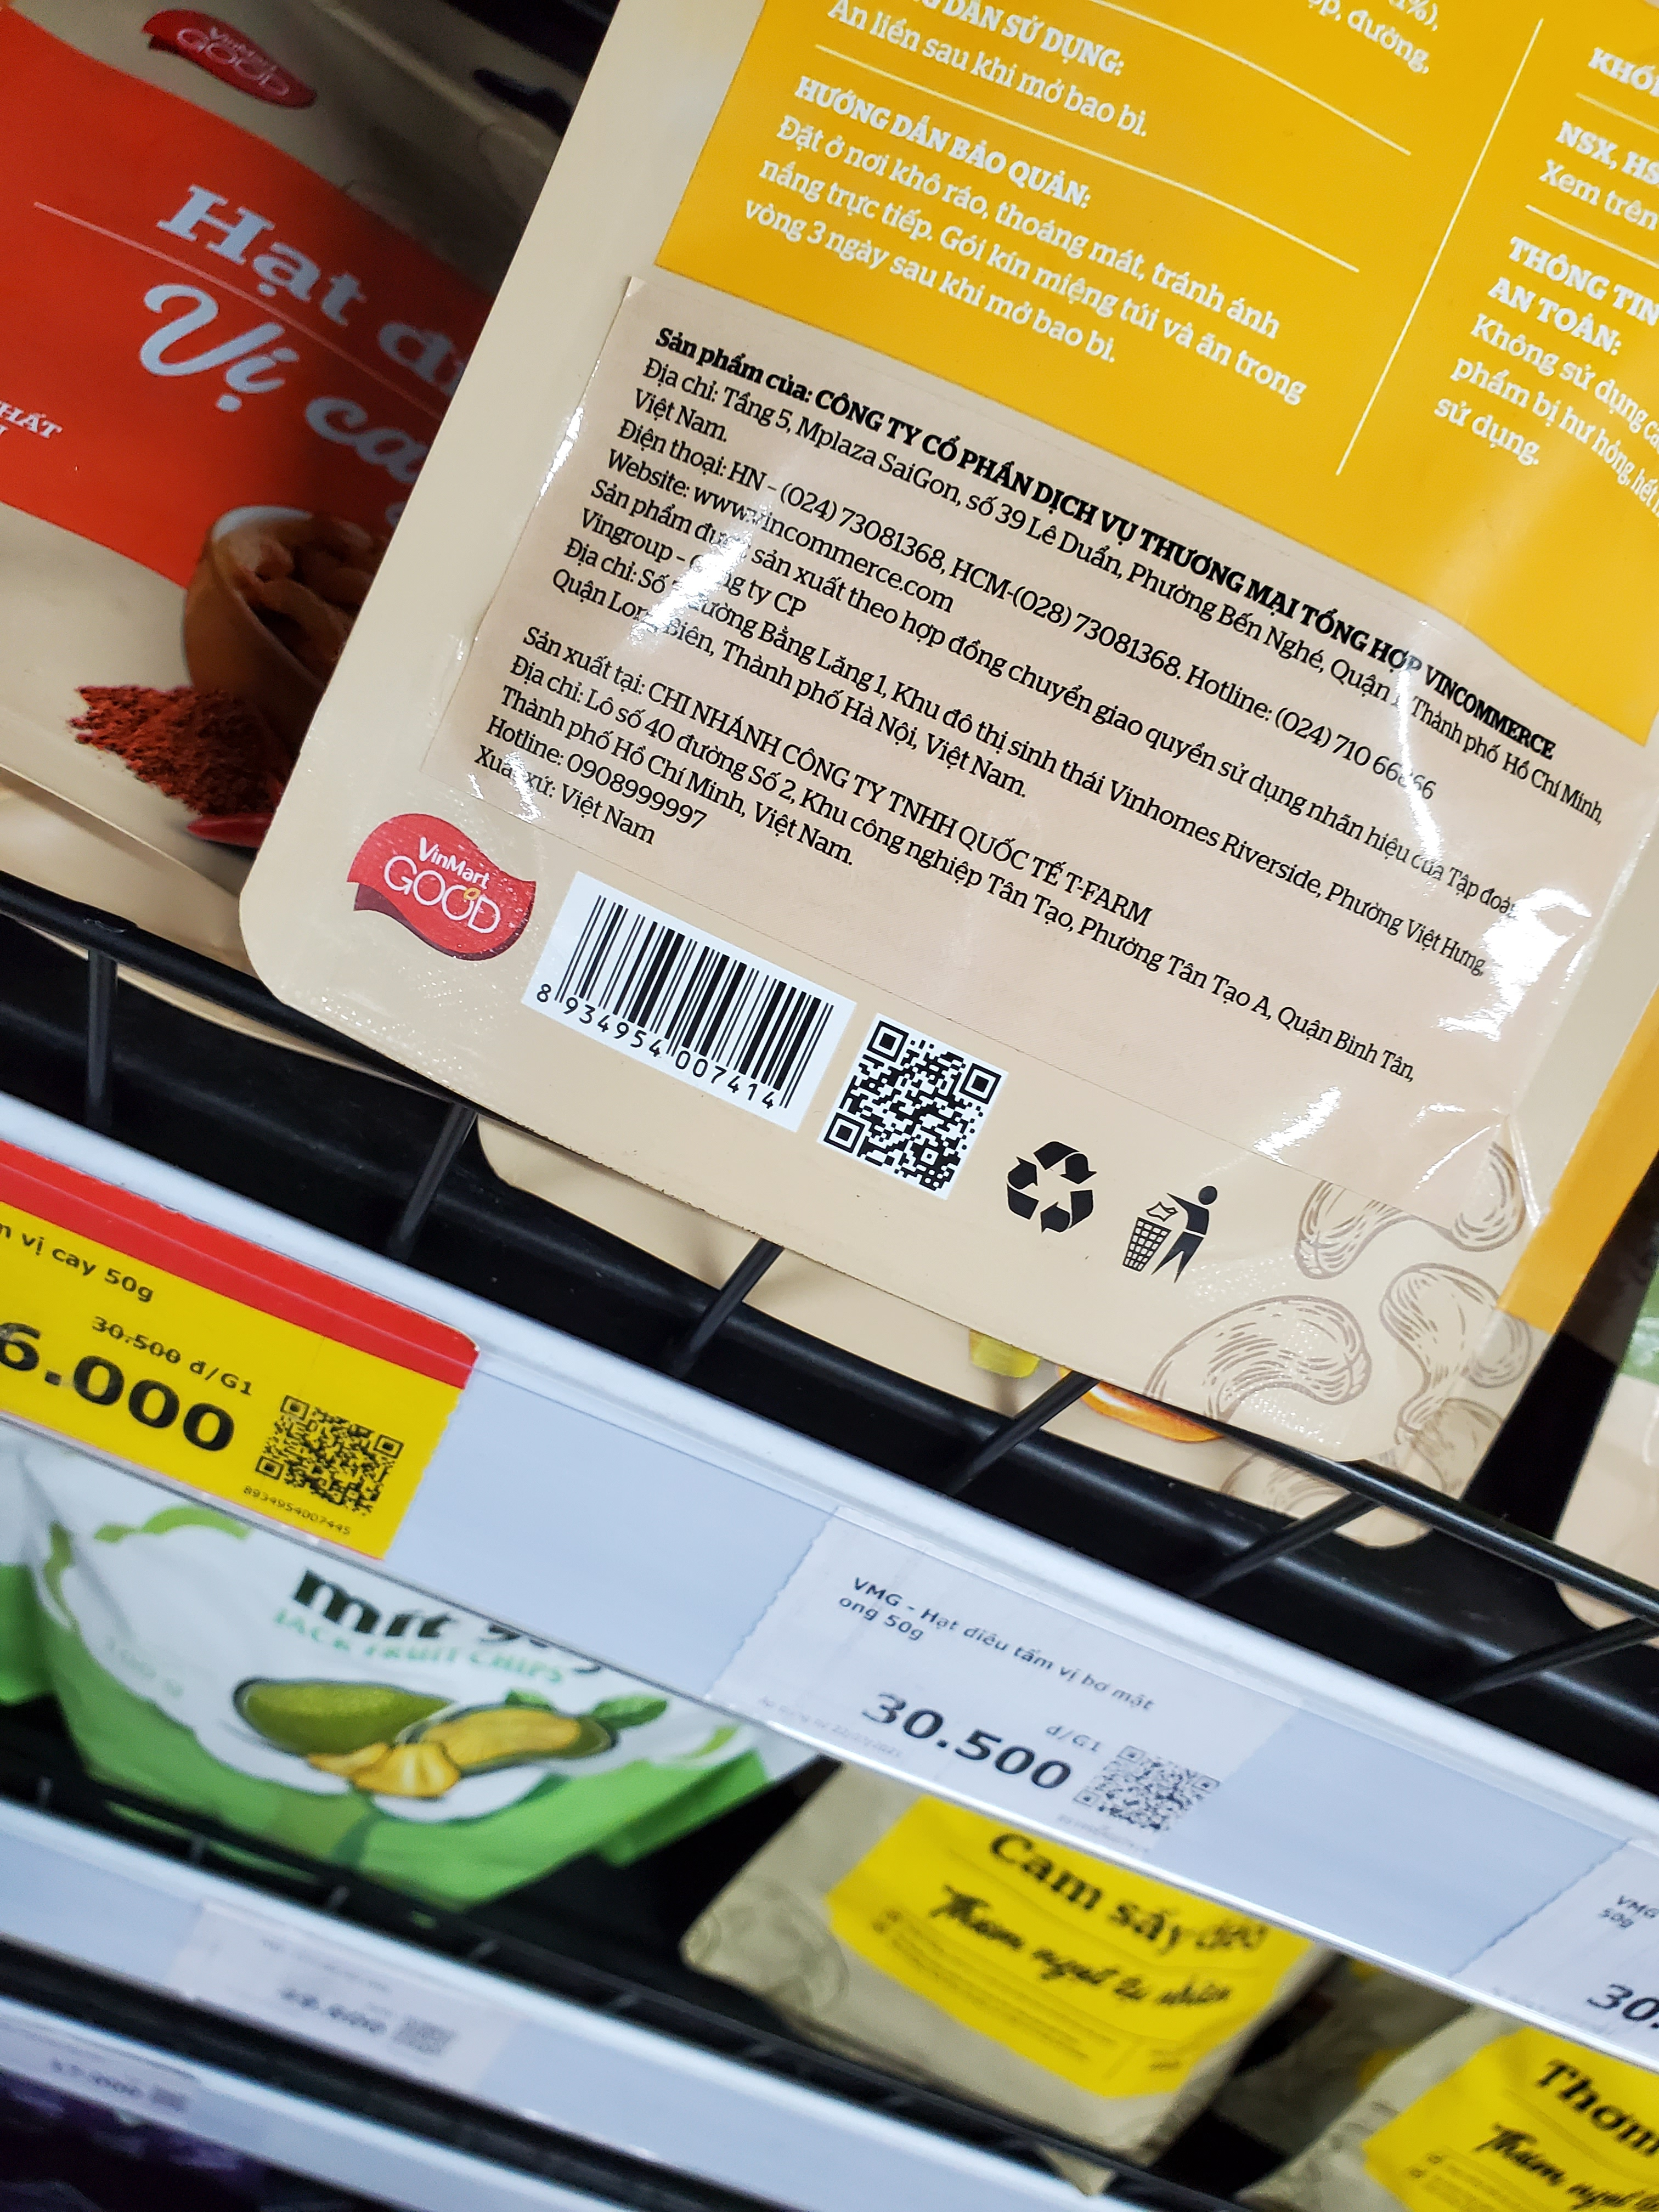barcode: (504, 866, 861, 1141)
qr code: (821, 982, 1021, 1217), (237, 1371, 422, 1561)
